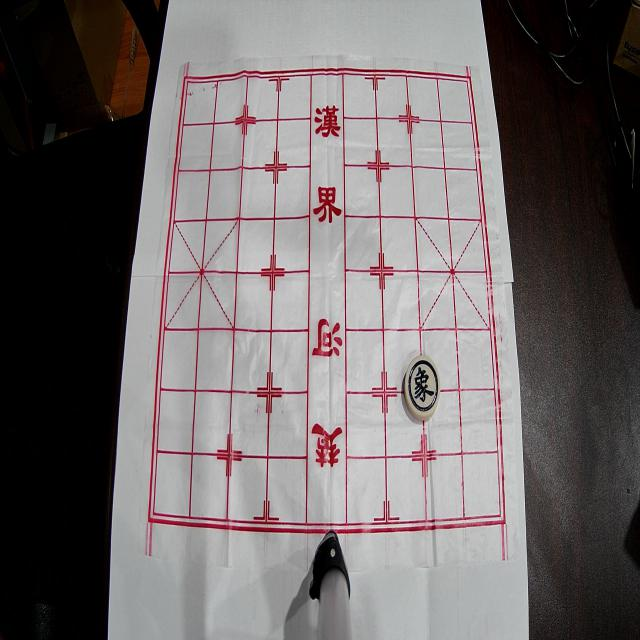black-elephant: (404, 355, 440, 420)
